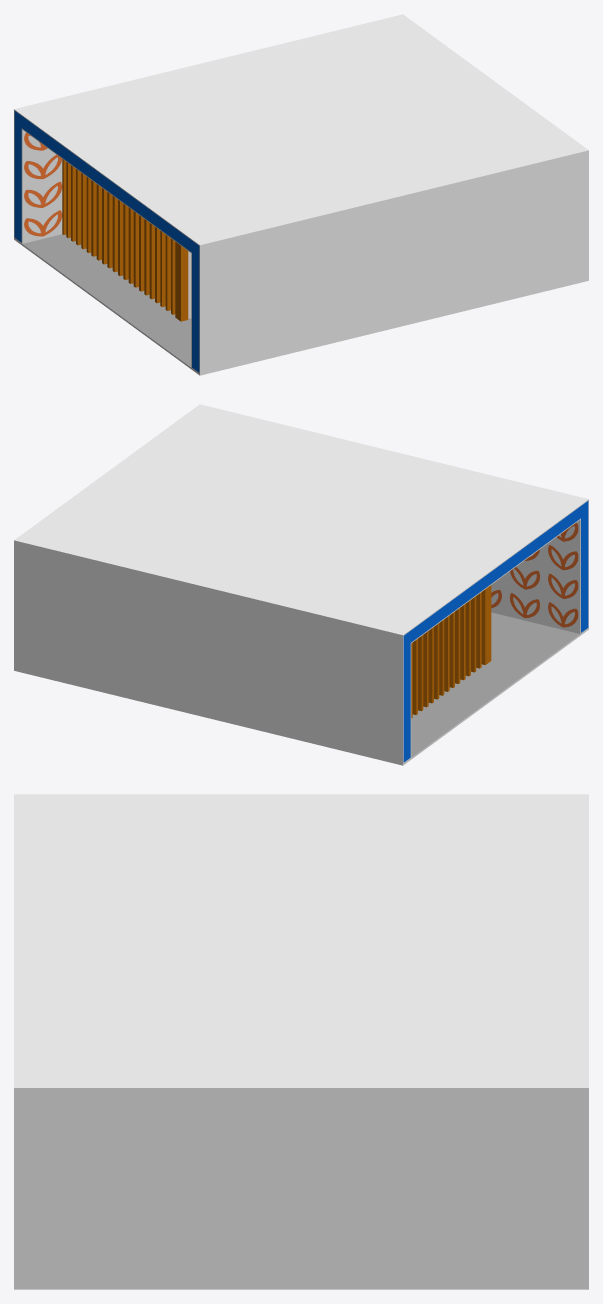
Rendered from VCY Room01.fbx.
The picture shows the model from 3 angles, top to bottom: view 1: azimuth 30°, elevation 25°; view 2: azimuth 150°, elevation 25°; view 3: azimuth 270°, elevation 25°; orthographic projection. The views are drawn at different scales.
Parts seen in each view (by area): view 1: VCY_Room01; view 2: VCY_Room01; view 3: VCY_Room01.
Part boxes in pixels (<box>): VCY_Room01: <box>14,14,588,375</box>; VCY_Room01: <box>14,404,588,765</box>; VCY_Room01: <box>14,794,588,1289</box>.
Bounding box in the file's own units: 972 × 311 × 804.
